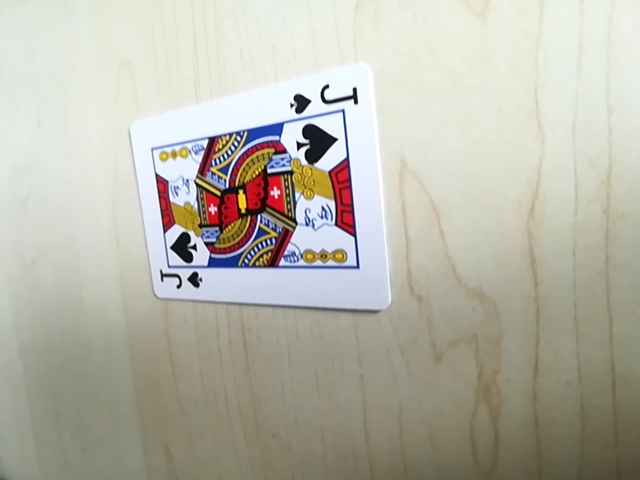ht j: (287, 78, 363, 121), (153, 258, 207, 295)
